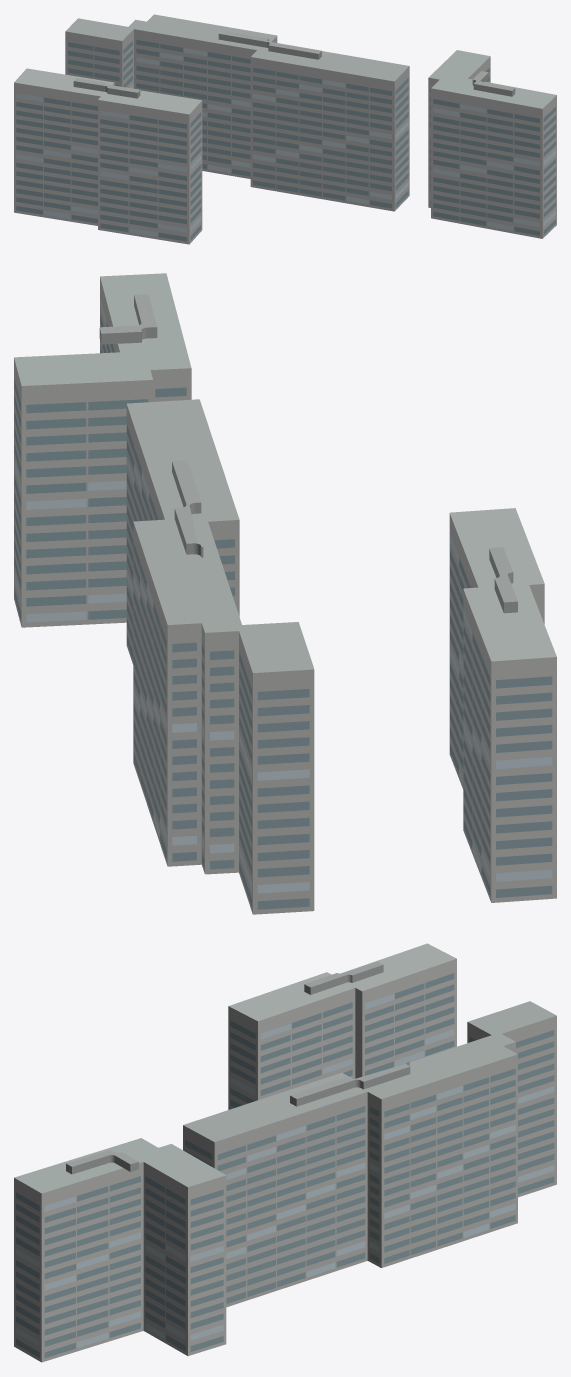
Rendered from apt-a15681802.glb.
3 views of the same model, one above another, from view 1: azimuth 30°, elevation 25°; view 2: azimuth 150°, elevation 25°; view 3: azimuth 270°, elevation 25° (orthographic). The views are drawn at different scales.
Parts seen in each view (by area): view 1: apt-a15681802; view 2: apt-a15681802; view 3: apt-a15681802.
Boxes of the visible parts, x1,y1,x2,y2 form: apt-a15681802: [14, 14, 556, 244]; apt-a15681802: [14, 273, 556, 914]; apt-a15681802: [14, 943, 556, 1362].
Size of the model in its own units: 145 by 47.81 by 133.
